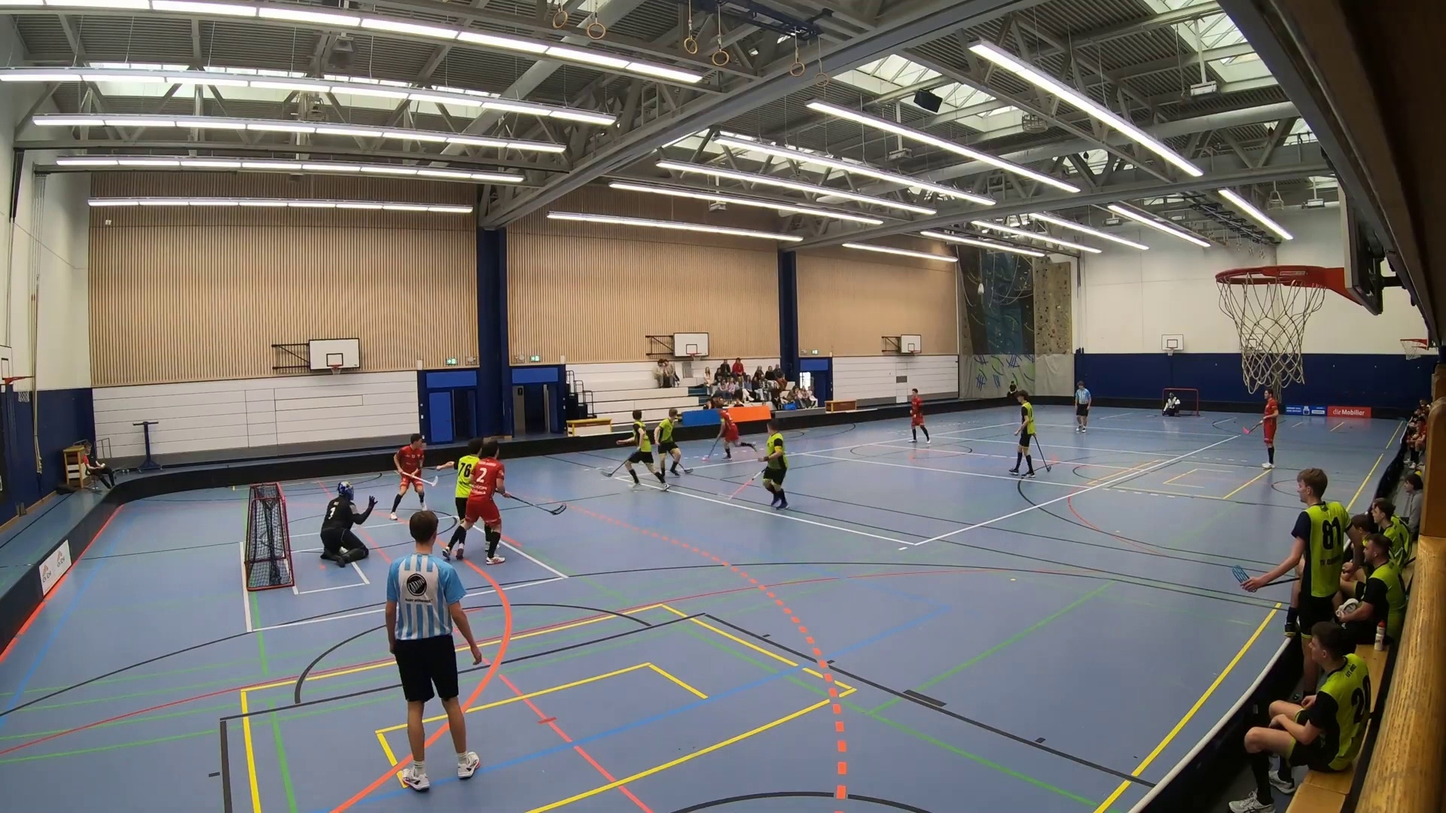Schiri: (367, 505, 503, 793), (1073, 380, 1094, 434)
ball: (701, 456, 705, 464)
goalkeeper: (299, 463, 380, 587), (1155, 385, 1182, 418)
player: (460, 436, 580, 585), (719, 417, 801, 526), (370, 413, 440, 521), (425, 431, 484, 556), (599, 407, 670, 500), (1002, 389, 1055, 492), (698, 399, 762, 466), (1242, 384, 1286, 481), (650, 404, 699, 490), (889, 377, 936, 449)
